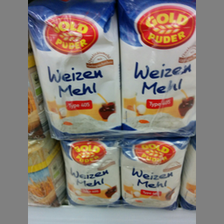flour: (28, 1, 123, 138), (115, 1, 196, 136), (121, 138, 189, 209), (59, 139, 121, 208)
